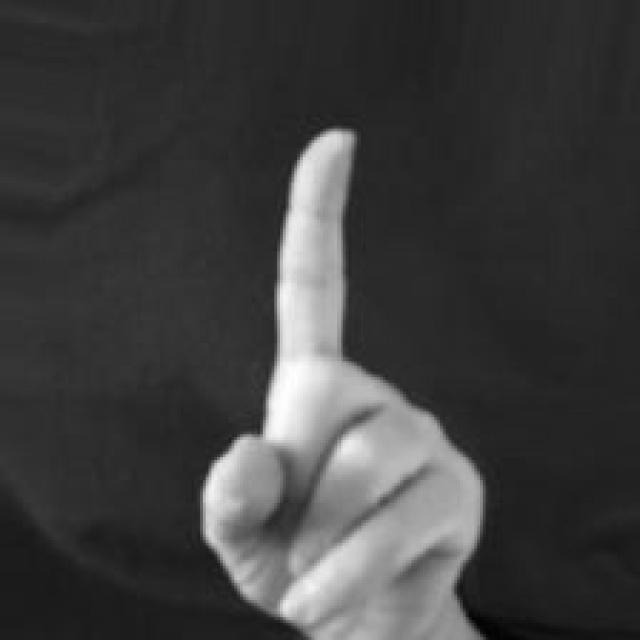I: (191, 124, 490, 640)
